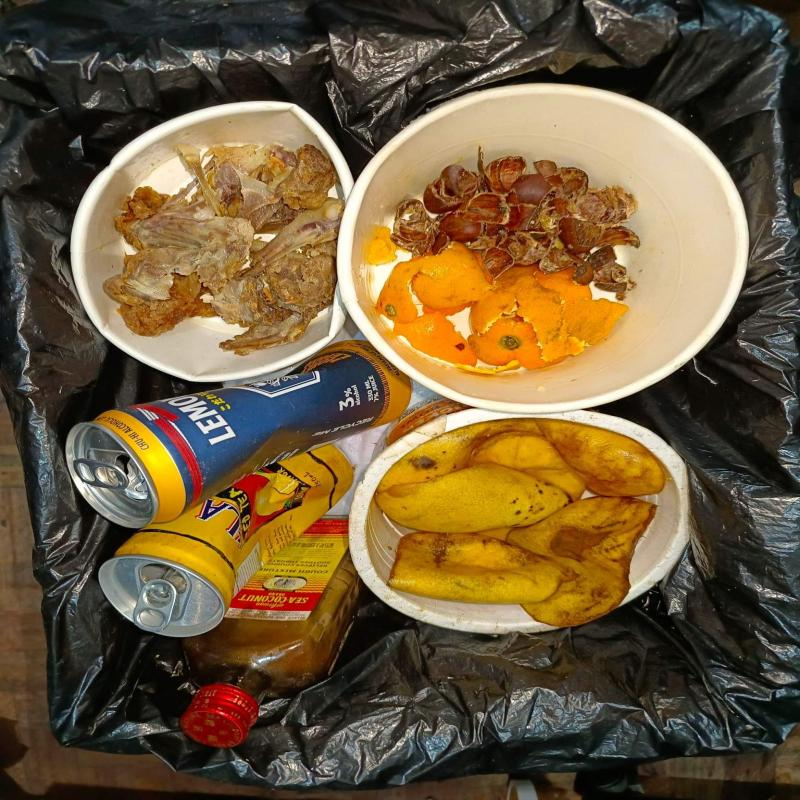aluminum: (67, 342, 412, 529), (100, 446, 353, 638)
fruit peels: (391, 157, 641, 301), (506, 497, 657, 628), (469, 262, 629, 362), (377, 465, 577, 535), (388, 533, 561, 605), (377, 421, 542, 491), (531, 419, 668, 498), (377, 242, 489, 323), (473, 436, 585, 497), (394, 313, 477, 367), (468, 319, 551, 371), (369, 226, 403, 267)
glass bottle: (181, 513, 362, 746)
left-over food: (102, 187, 293, 337), (219, 198, 345, 356), (177, 145, 343, 234)
styrofoam containers: (347, 401, 696, 638)
